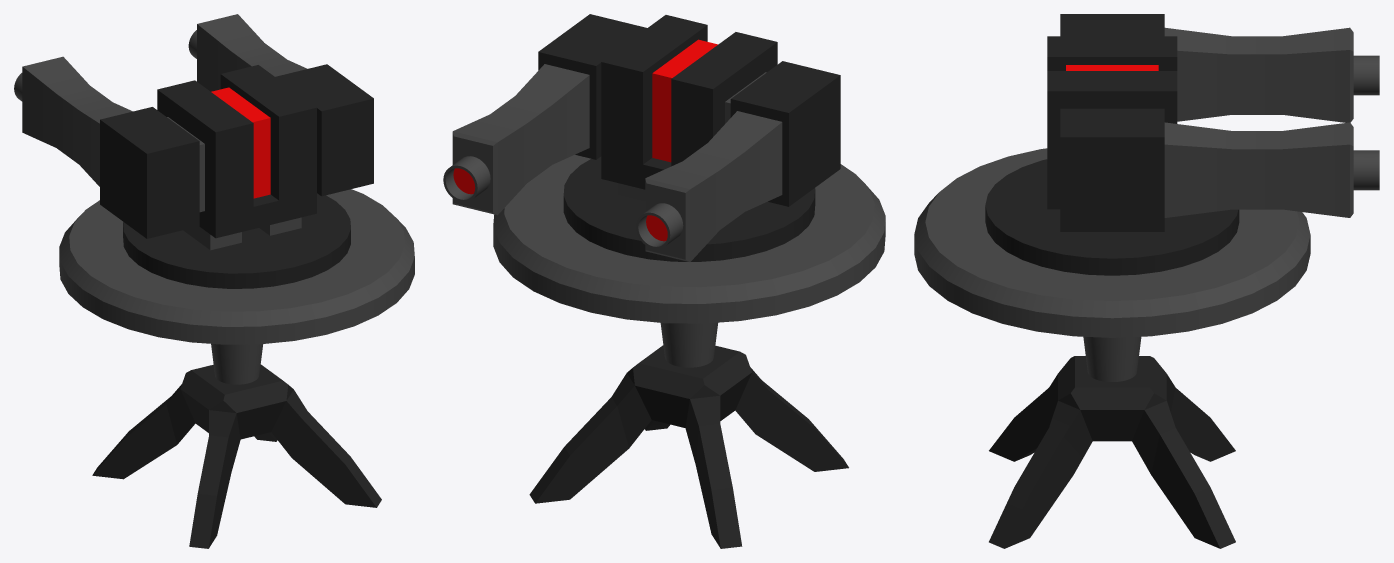
File: Turret.fbx
3 views of the same model, side by side, from view 1: azimuth 30°, elevation 25°; view 2: azimuth 150°, elevation 25°; view 3: azimuth 270°, elevation 25° (orthographic). The views are drawn at different scales.
Parts seen in each view (by area): view 1: Turret_Swivel, Turret_Stand; view 2: Turret_Swivel, Turret_Stand; view 3: Turret_Swivel, Turret_Stand.
Boxes of the visible parts, x1,y1,x2,y2 form: Turret_Swivel: [14, 14, 373, 288]; Turret_Stand: [59, 189, 414, 548]; Turret_Swivel: [443, 14, 840, 261]; Turret_Stand: [493, 155, 885, 548]; Turret_Swivel: [985, 14, 1379, 275]; Turret_Stand: [914, 148, 1310, 548].
Size of the model in its own units: 119 by 143 by 139.
